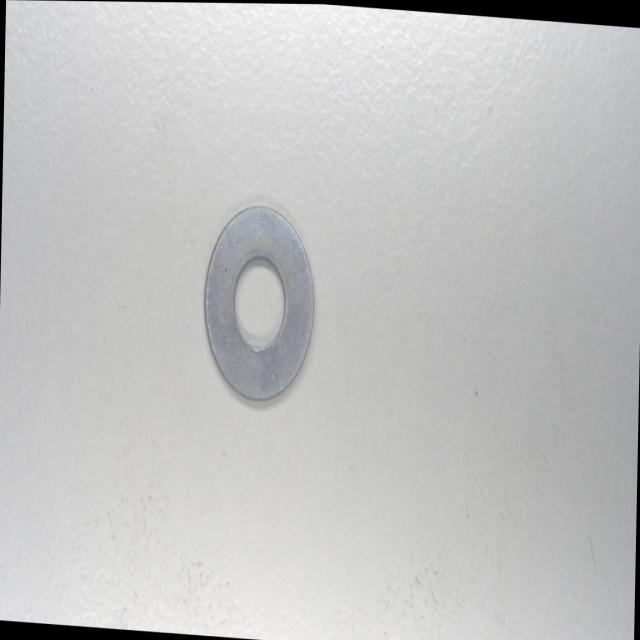washer: (202, 203, 319, 409)
